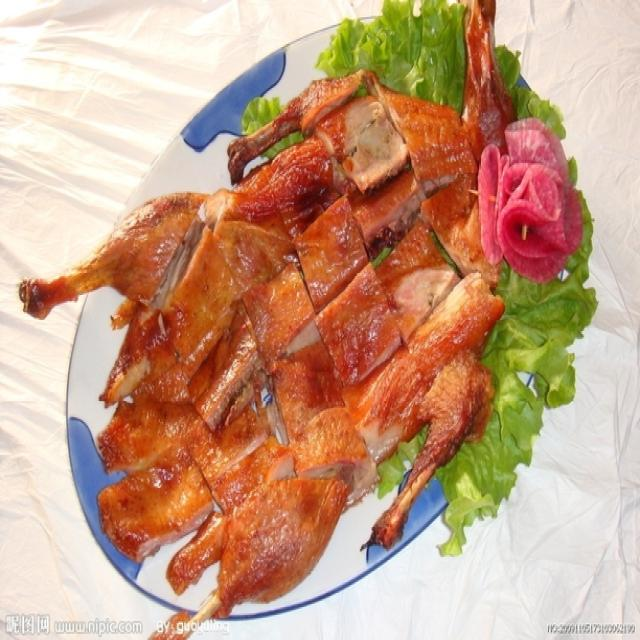烧串烤肉: (31, 43, 594, 622)
